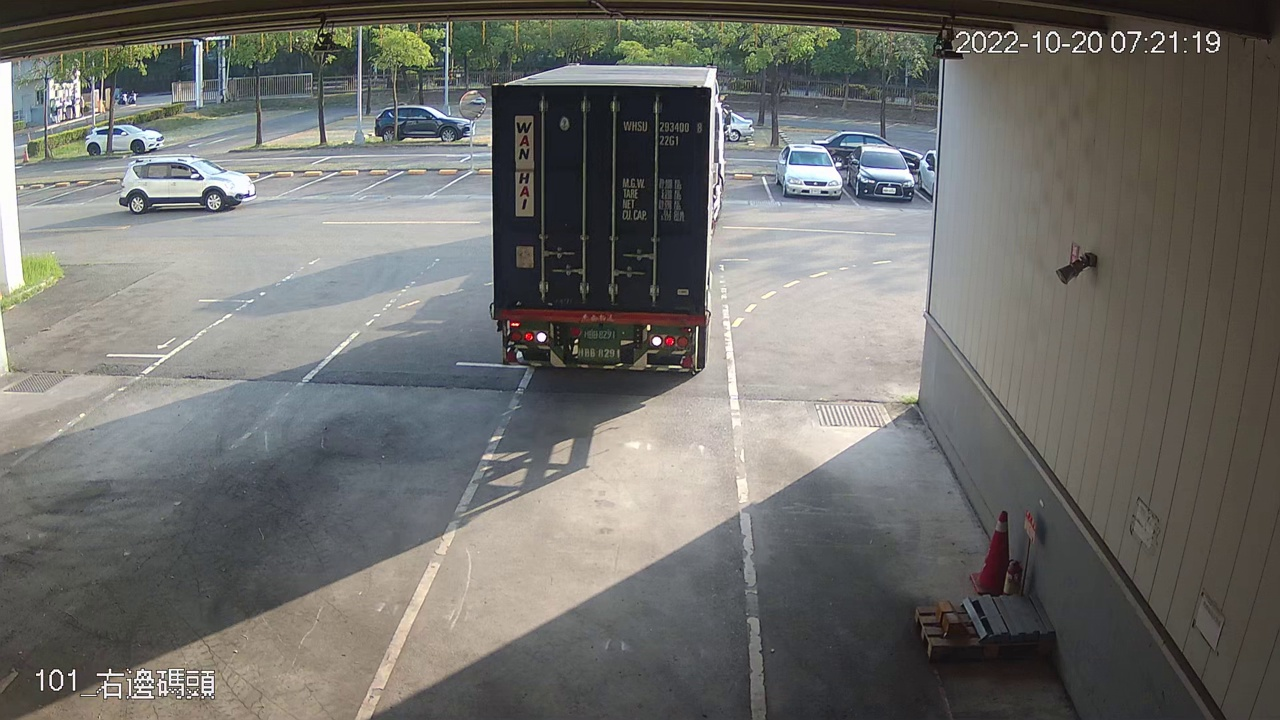container: (619, 115, 706, 152)
